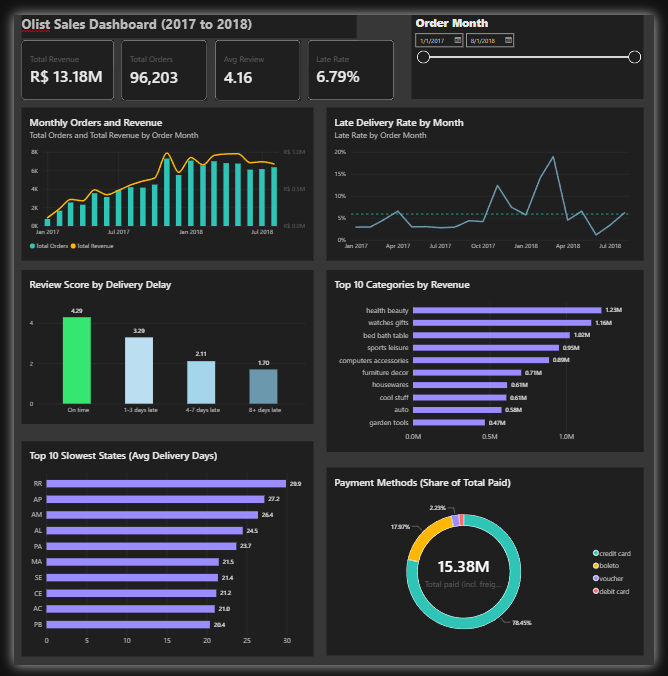

The page's visual inventory and layout, read from the dashboard file:
{"tool":"powerbi","page":{"name":"Page 1","canvas":[1280,1300],"ordinal":0},"visuals":[{"type":"cardVisual","fields":{"Data":["orders.Total Revenue"]},"box":[15,50,185,120],"z":0},{"type":"cardVisual","fields":{"Data":["orders.Total Orders"]},"box":[215.4,50,170.8,121.4],"z":1000},{"type":"cardVisual","fields":{"Data":["orders.Avg Review"]},"box":[401.6,48.9,170.8,121.4],"z":2000},{"type":"cardVisual","fields":{"Data":["orders.Late Rate"]},"box":[587.8,48.9,172,120],"z":3000},{"type":"textbox","box":[14,0,670,46],"z":4000},{"type":"lineClusteredColumnComboChart","title":"Monthly Orders and Revenue","fields":{"Category":["orders.Order Month"],"Y":["orders.Total Orders"],"Y2":["orders.Total Revenue"]},"box":[14,184,584,306],"z":5000},{"type":"lineChart","title":"Late Delivery Rate by Month","fields":{"Category":["orders.Order Month"],"Y":["orders.Late Rate"]},"box":[624,184,634,306],"z":6000},{"type":"clusteredColumnChart","title":"Review Score by Delivery Delay","fields":{"Category":["late_reviews.delay"],"Y":["Sum(late_reviews.avg_review_score)"]},"box":[14,510,584,308],"z":7000},{"type":"clusteredBarChart","title":"Top 10 Categories by Revenue","fields":{"Category":["top_categories.category"],"Y":["Sum(top_categories.revenue)"]},"box":[624,510,634,364],"z":8000},{"type":"donutChart","title":"Payment Methods (Share of Total Paid)","fields":{"Category":["payments.payment_type"],"Y":["Sum(payments.total_paid)"]},"box":[624,906,634,376],"z":9000},{"type":"clusteredBarChart","title":"Top 10 Slowest States (Avg Delivery Days)","fields":{"Category":["states.customer_state"],"Y":["Avg(states.avg_delivery_days)"]},"box":[14,852,584,430],"z":10000},{"type":"slicer","fields":{"Values":["orders.Order Month"]},"box":[796,0,462,166],"z":11000}]}

Visuals, with their boxes in screenshot pixels (x1, y1, x2, y2), scaled from the page's 1280x1300 canvas onto the 668x676 screenshot:
cardVisual - orders.Total Revenue: l=8, t=26, r=104, b=88
cardVisual - orders.Total Orders: l=112, t=26, r=202, b=89
cardVisual - orders.Avg Review: l=210, t=25, r=299, b=89
cardVisual - orders.Late Rate: l=307, t=25, r=397, b=88
textbox: l=7, t=0, r=357, b=24
"Monthly Orders and Revenue" lineClusteredColumnComboChart: l=7, t=96, r=312, b=255
"Late Delivery Rate by Month" lineChart: l=326, t=96, r=657, b=255
"Review Score by Delivery Delay" clusteredColumnChart: l=7, t=265, r=312, b=425
"Top 10 Categories by Revenue" clusteredBarChart: l=326, t=265, r=657, b=454
"Payment Methods (Share of Total Paid)" donutChart: l=326, t=471, r=657, b=667
"Top 10 Slowest States (Avg Delivery Days)" clusteredBarChart: l=7, t=443, r=312, b=667
slicer - orders.Order Month: l=415, t=0, r=657, b=86
